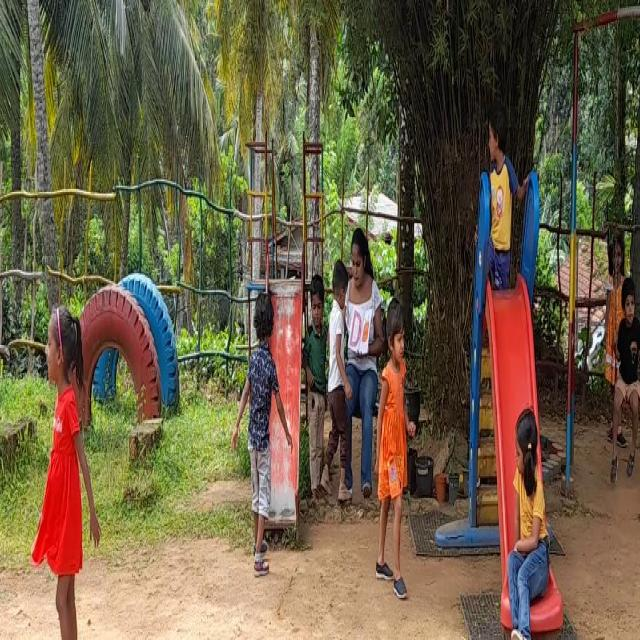adult: (345, 226, 381, 484)
child: (34, 296, 96, 640), (501, 410, 560, 640), (236, 264, 278, 560), (384, 309, 412, 604), (607, 272, 640, 466), (484, 119, 513, 282), (328, 261, 346, 488), (309, 264, 324, 506)
